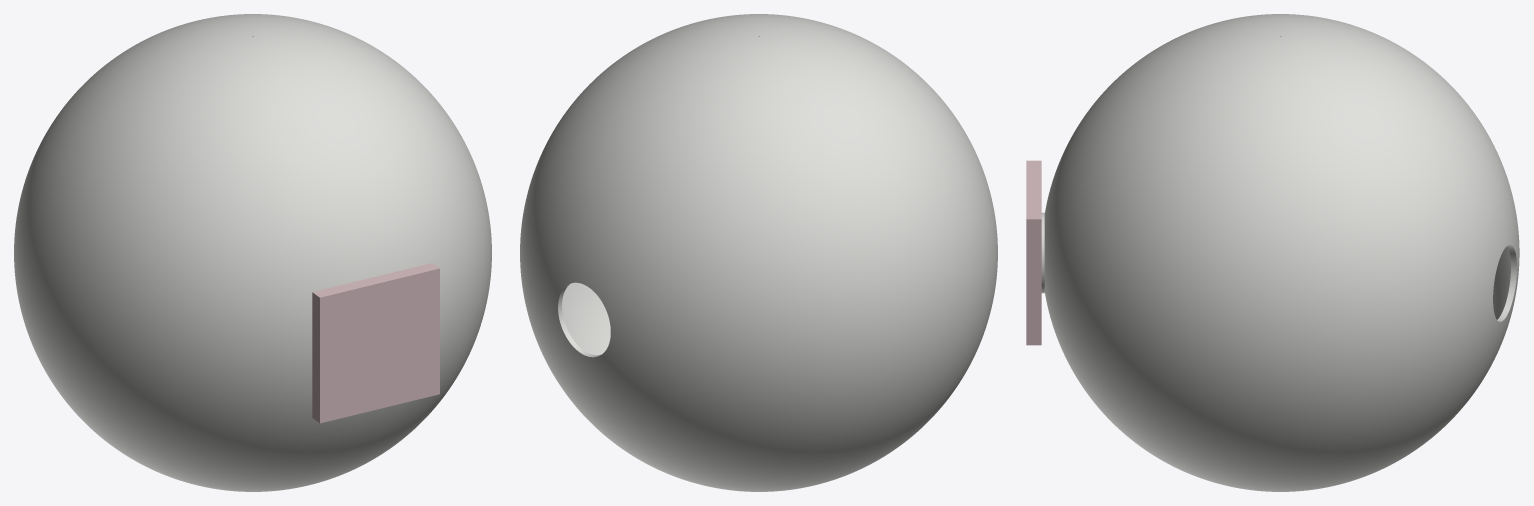
3 views of the same model, side by side, from view 1: azimuth 30°, elevation 25°; view 2: azimuth 150°, elevation 25°; view 3: azimuth 270°, elevation 25° (orthographic).
Parts seen in each view (by area): view 1: 球壳, 实体1:1; view 2: 球壳; view 3: 球壳, 实体1:1.
Part boxes in pixels (bbox=[...]): 球壳: bbox=[14, 14, 491, 491]; 实体1:1: bbox=[312, 263, 439, 423]; 球壳: bbox=[520, 14, 997, 491]; 球壳: bbox=[1041, 14, 1519, 491]; 实体1:1: bbox=[1026, 160, 1041, 345].
Bounding box in the file's own units: 156 × 156 × 161.
